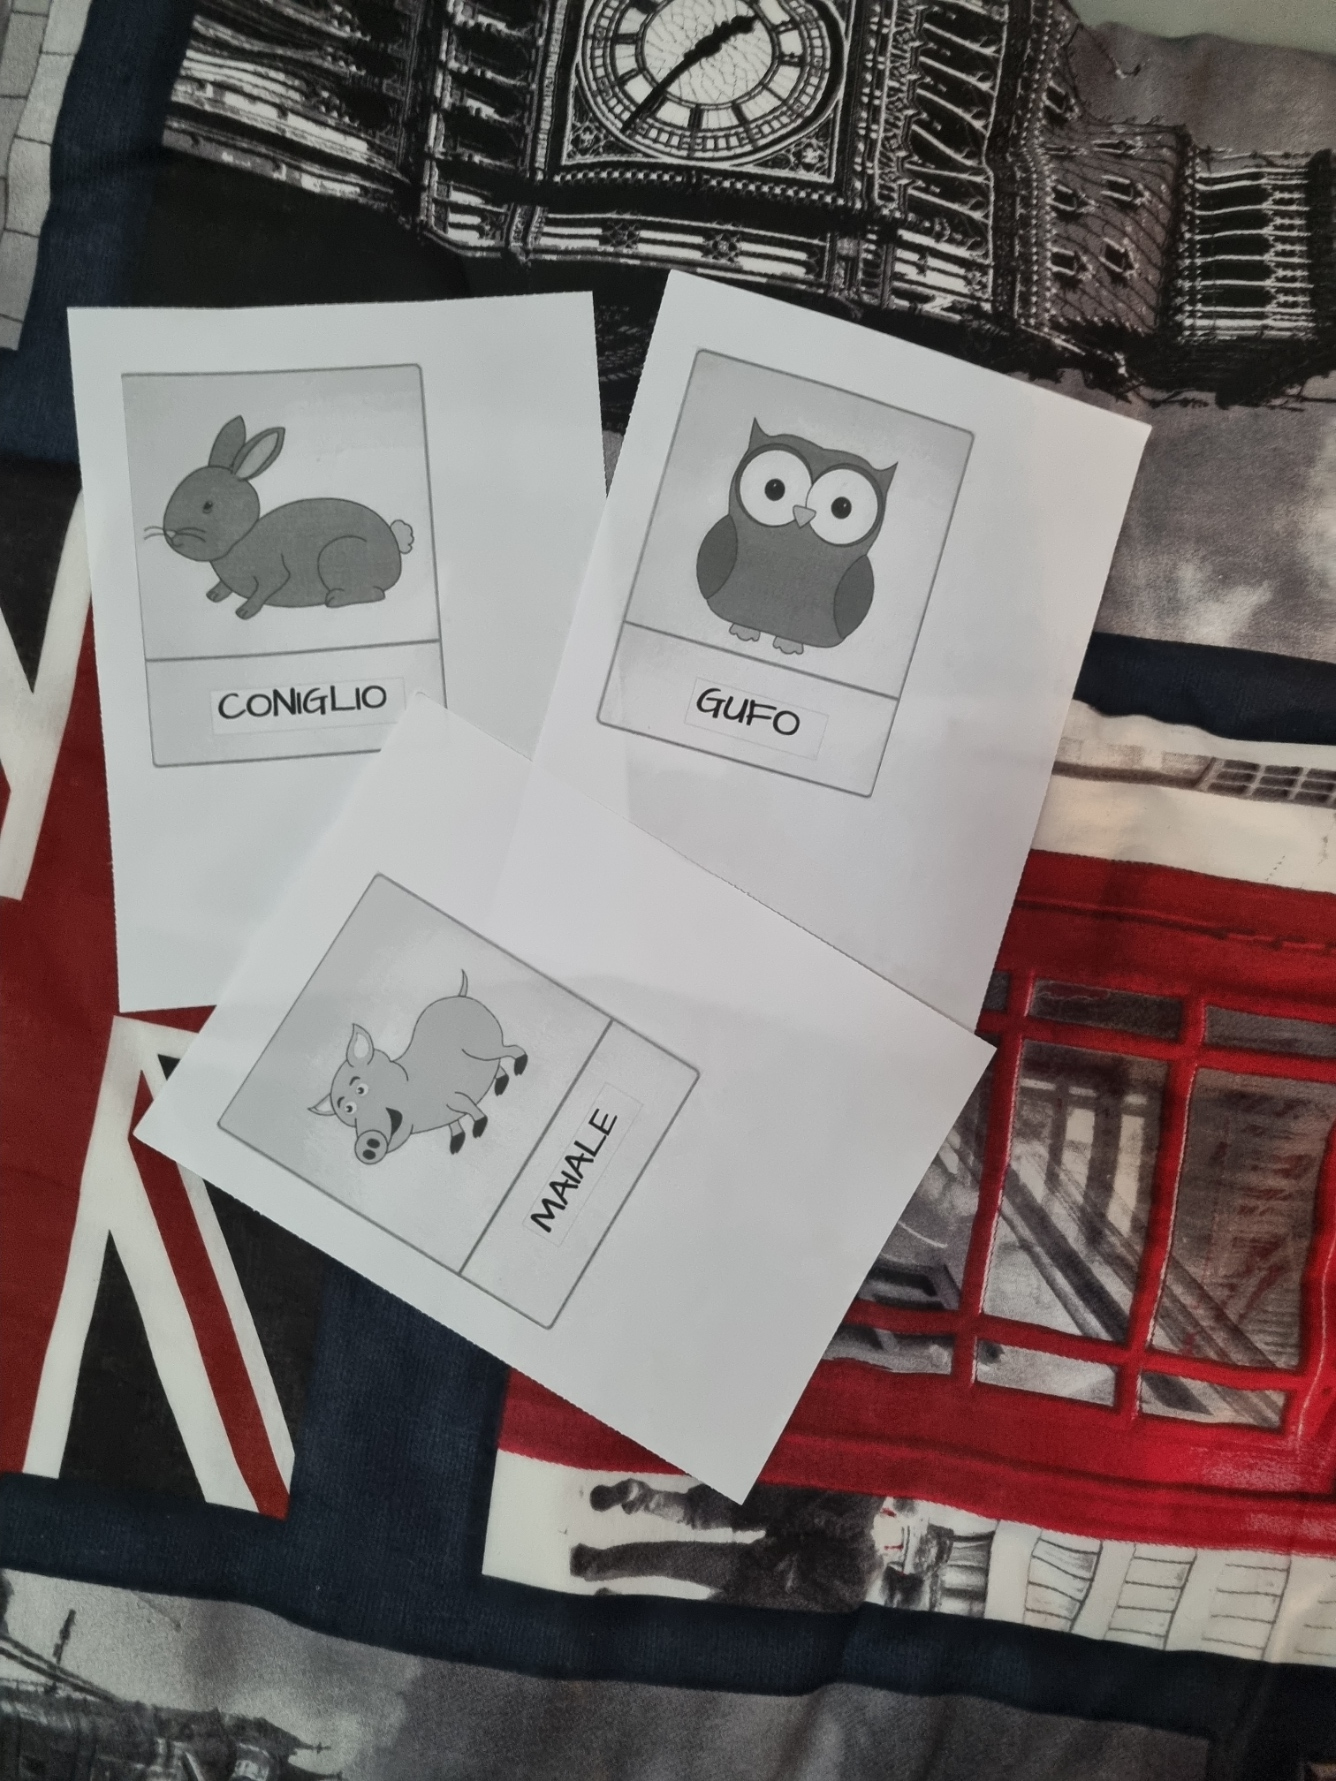coniglio: (116, 377, 436, 750)
gufo: (660, 381, 907, 779)
maiale: (279, 952, 636, 1305)
